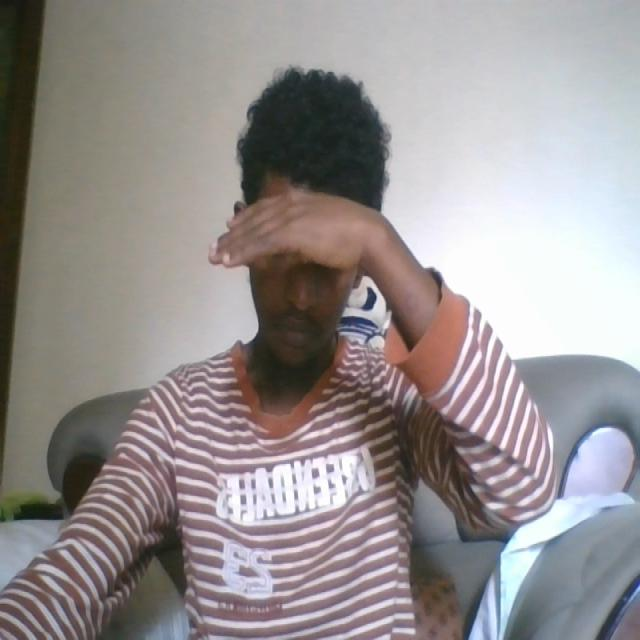abat: (203, 173, 391, 288)
